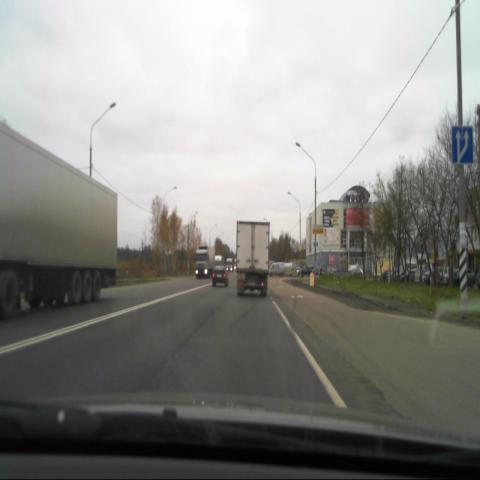5_15_3: (452, 121, 475, 165)
